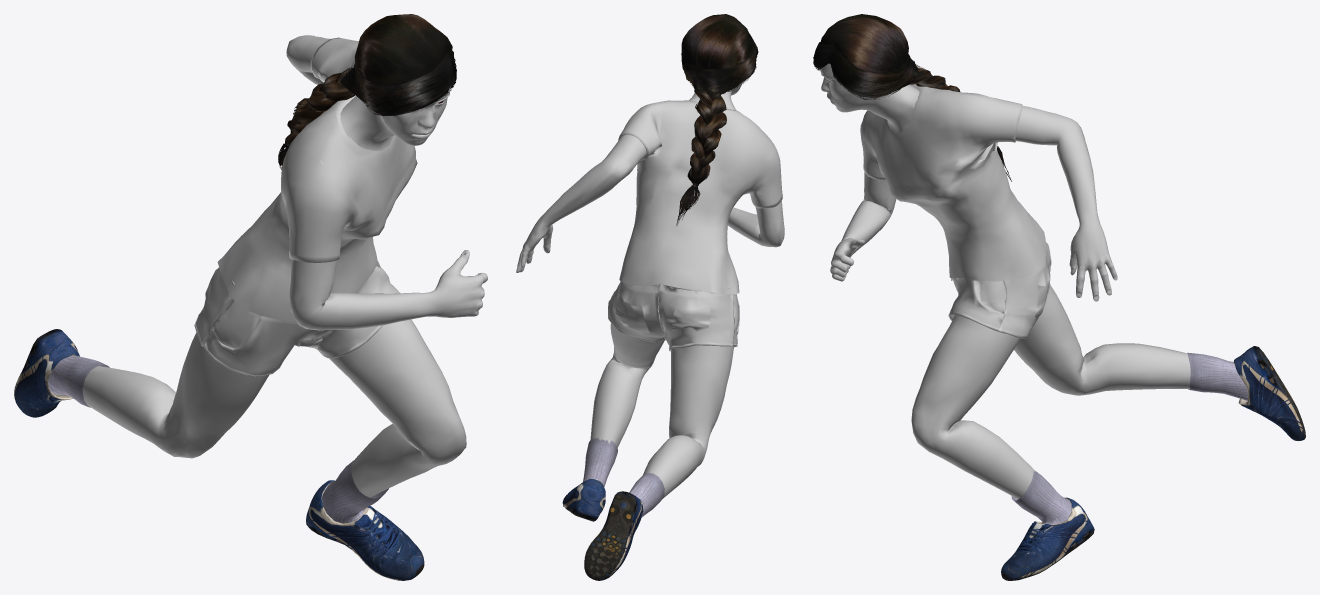
Rendered from run_female_rendered.dae.
3 renders of one model, left to right at view 1: azimuth 30°, elevation 25°; view 2: azimuth 150°, elevation 25°; view 3: azimuth 270°, elevation 25°, orthographic. The views are drawn at different scales.
Visible parts, largest first — view 1: run_female-base, run_female-female_casualsuit02, run_female-shoes06, run_female-braid01; view 2: run_female-female_casualsuit02, run_female-base, run_female-braid01, run_female-shoes06; view 3: run_female-base, run_female-female_casualsuit02, run_female-shoes06, run_female-braid01.
Boxes of the visible parts, box(x1,y1,x2,y2) form: run_female-base: box(82, 35, 487, 497); run_female-female_casualsuit02: box(194, 37, 417, 376); run_female-shoes06: box(14, 329, 424, 580); run_female-braid01: box(278, 14, 456, 169); run_female-female_casualsuit02: box(608, 100, 782, 351); run_female-base: box(516, 82, 784, 498); run_female-braid01: box(676, 14, 758, 226); run_female-shoes06: box(562, 438, 664, 580); run_female-base: box(820, 63, 1190, 499); run_female-female_casualsuit02: box(860, 84, 1051, 338); run_female-shoes06: box(1001, 346, 1305, 580); run_female-braid01: box(813, 14, 1011, 181).
Size of the model in its own units: 0.5944 by 1.17 by 1.38.
